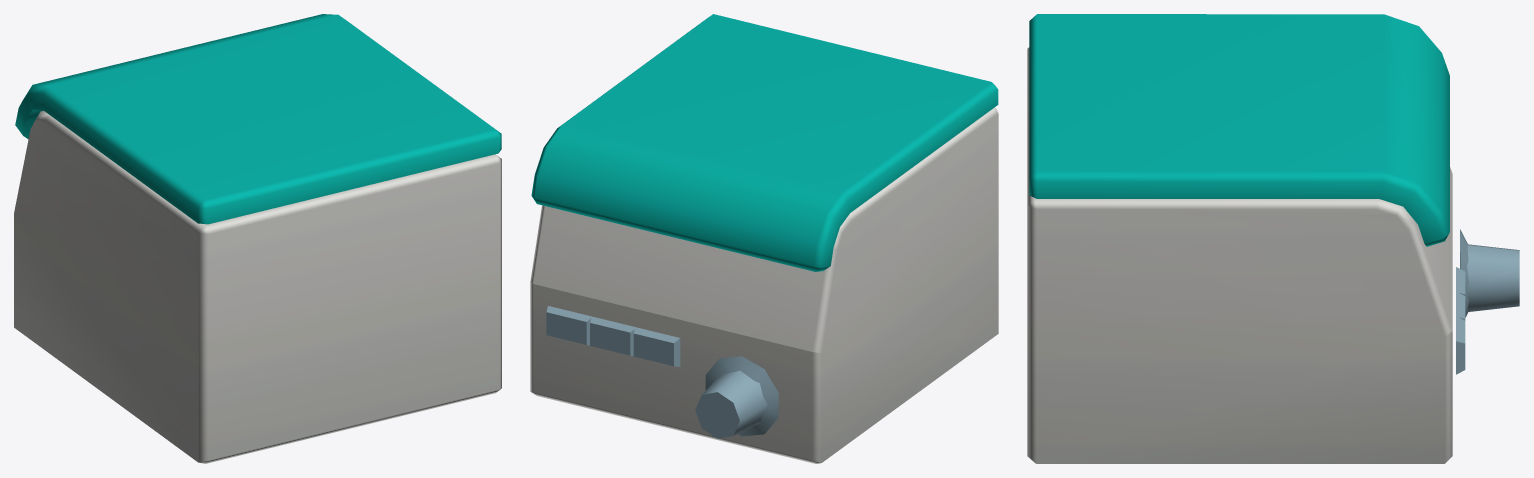
The model's file is Pfb_JLAB_Centrifuge.fbx.
The picture shows the model from 3 angles, left to right: view 1: azimuth 30°, elevation 25°; view 2: azimuth 150°, elevation 25°; view 3: azimuth 270°, elevation 25°; orthographic projection. The views are drawn at different scales.
Visible parts, largest first — view 1: Color; view 2: Color; view 3: Color.
Part boxes in pixels (<box>): Color: <box>14,14,501,463</box>; Color: <box>530,14,998,463</box>; Color: <box>1027,14,1519,463</box>.
Bounding box in the file's own units: 24.17 × 20.03 × 30.58.
1 material, 1 textured.
